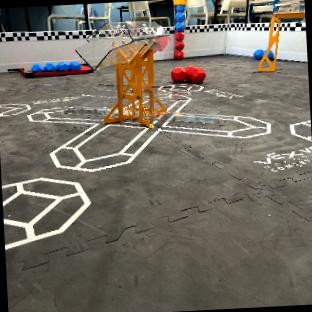V5_BLUE: (30, 61, 81, 71), (174, 5, 184, 30), (253, 49, 263, 59)
V5_RED: (170, 66, 204, 83), (154, 36, 167, 50)
